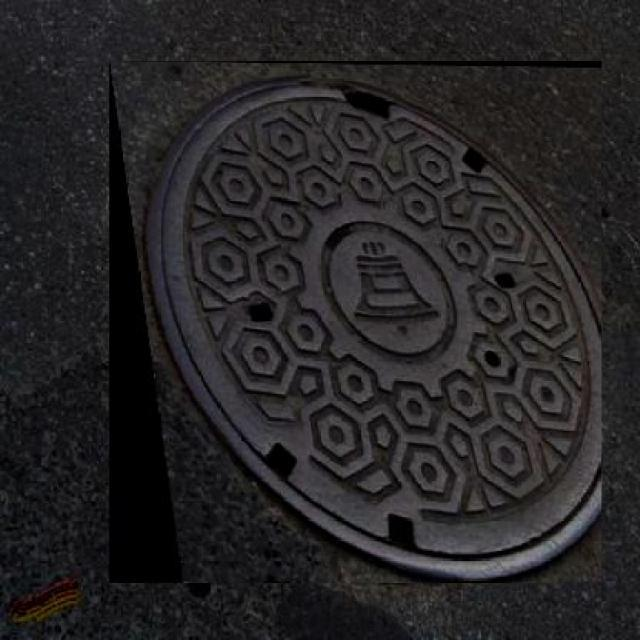Manhole: (109, 60, 602, 583)
